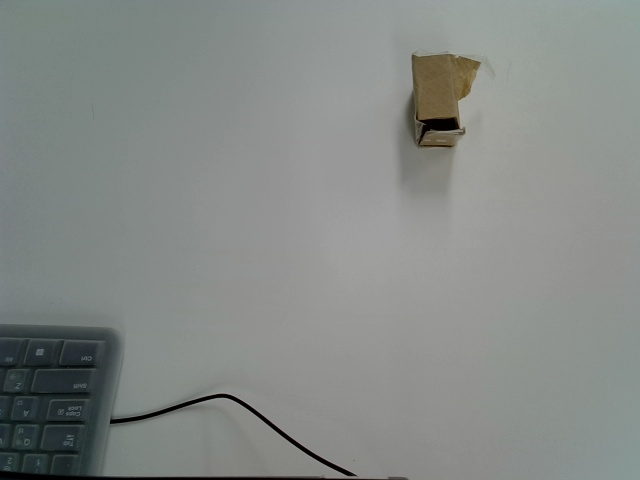defect: (410, 50, 516, 147)
